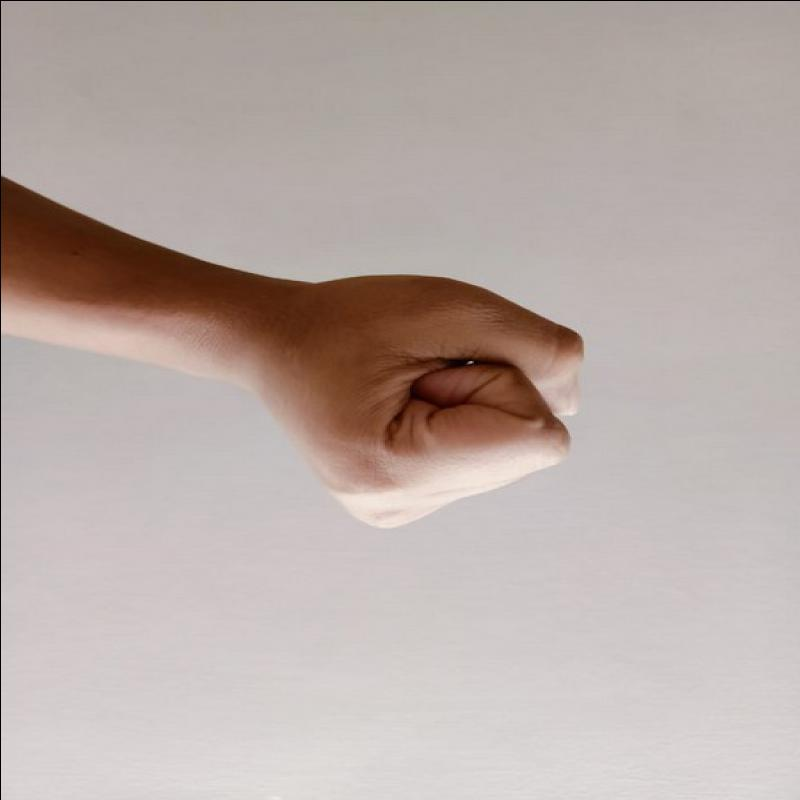Mushti: (254, 264, 600, 564)
